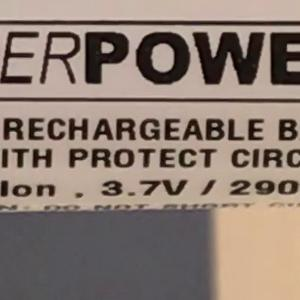keyword: (91, 169, 198, 206)
